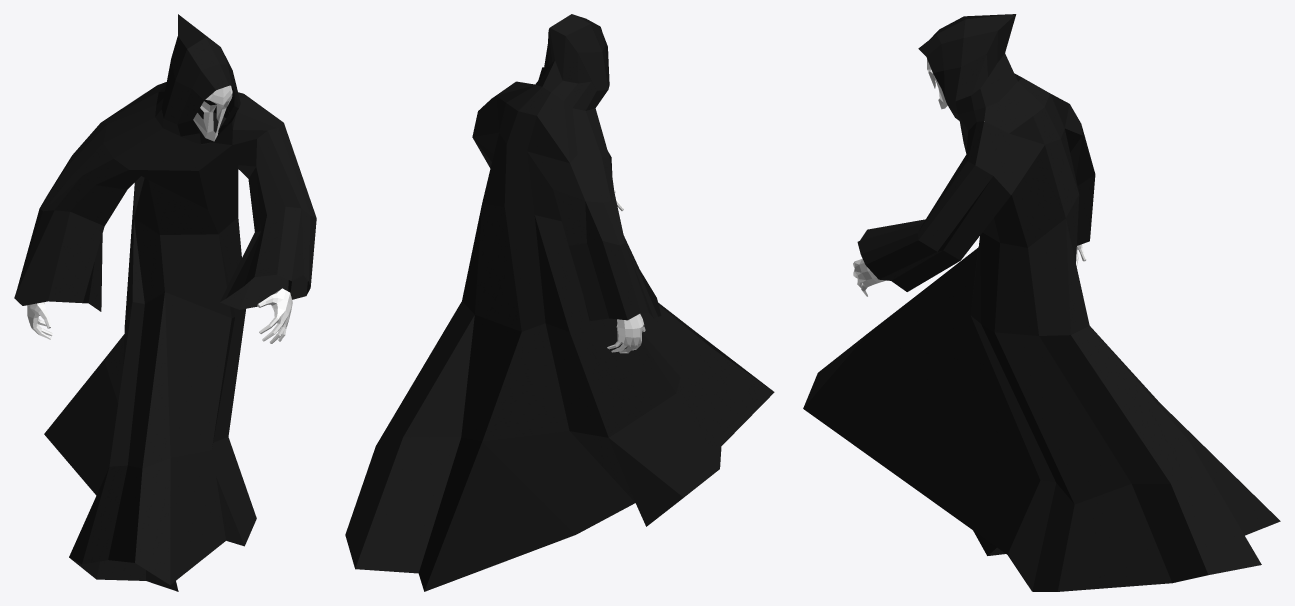
Rendered from ReaperWalk(26).obj.
3 renders of one model, left to right at view 1: azimuth 30°, elevation 25°; view 2: azimuth 150°, elevation 25°; view 3: azimuth 270°, elevation 25°, orthographic. The views are drawn at different scales.
Visible parts, largest first — view 1: Plane003; view 2: Plane003; view 3: Plane003.
Boxes of the visible parts, x1,y1,x2,y2 form: Plane003: (14, 14, 316, 591); Plane003: (345, 14, 774, 591); Plane003: (803, 14, 1280, 591).
Bounding box in the file's own units: 109 × 216 × 171.
